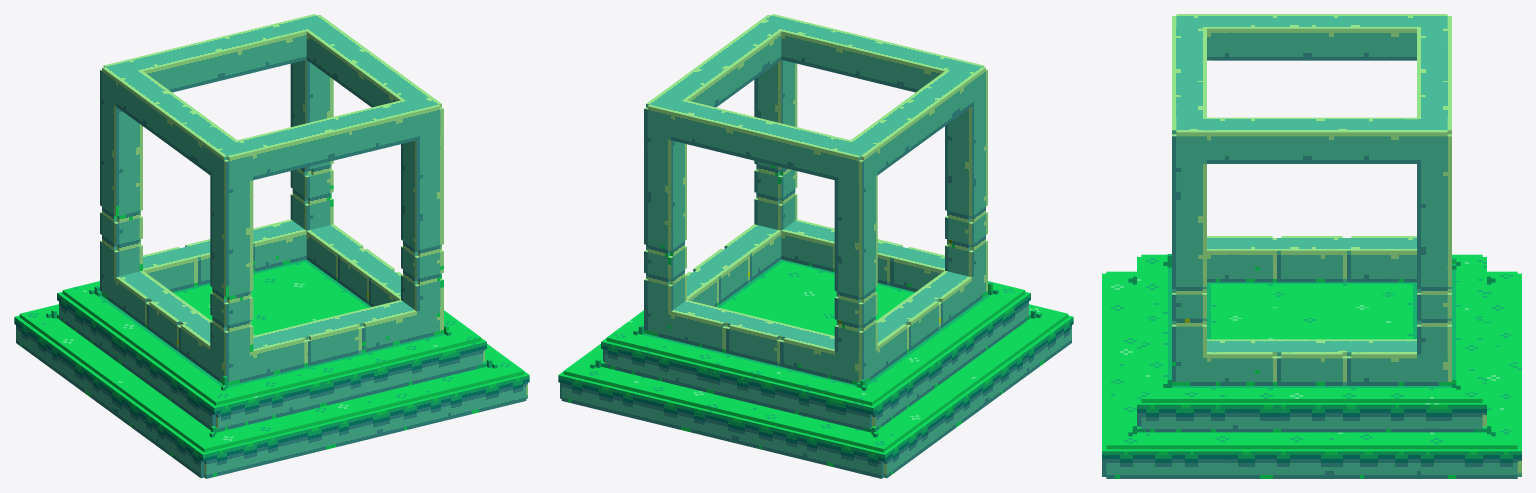
The model's file is gate_graveao.fezao.glb.
3 views of the same model, side by side, from view 1: azimuth 30°, elevation 25°; view 2: azimuth 150°, elevation 25°; view 3: azimuth 270°, elevation 25° (orthographic). The views are drawn at different scales.
Parts seen in each view (by area): view 1: GATE_GRAVEAO; view 2: GATE_GRAVEAO; view 3: GATE_GRAVEAO.
Boxes of the visible parts, x1=… form: GATE_GRAVEAO: x1=14, y1=14, x2=529, y2=478; GATE_GRAVEAO: x1=558, y1=14, x2=1073, y2=478; GATE_GRAVEAO: x1=1102, y1=14, x2=1521, y2=478.
Bounding box in the file's own units: 6 × 5 × 6.
Materials: 1 (1 with a texture image).
